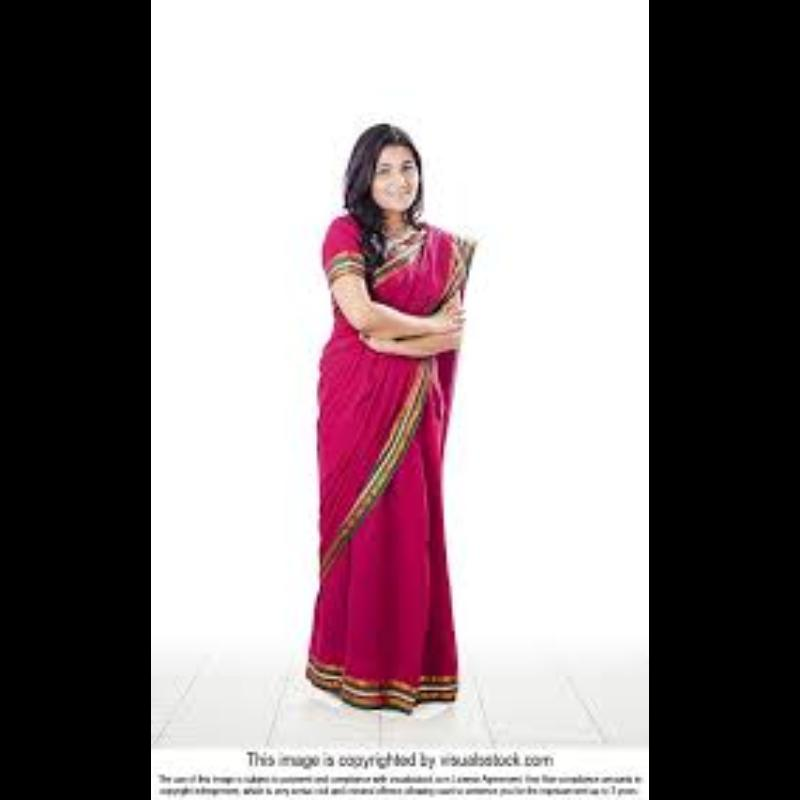Sari: (298, 219, 504, 730)
